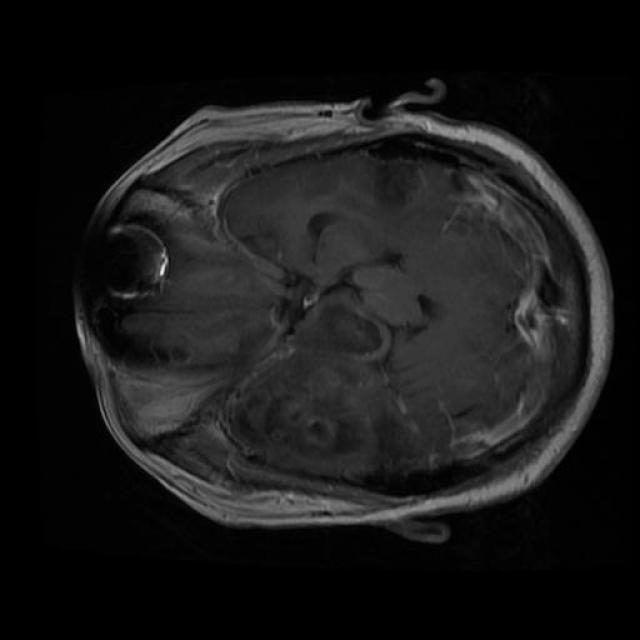Glioma: (218, 289, 396, 478)
